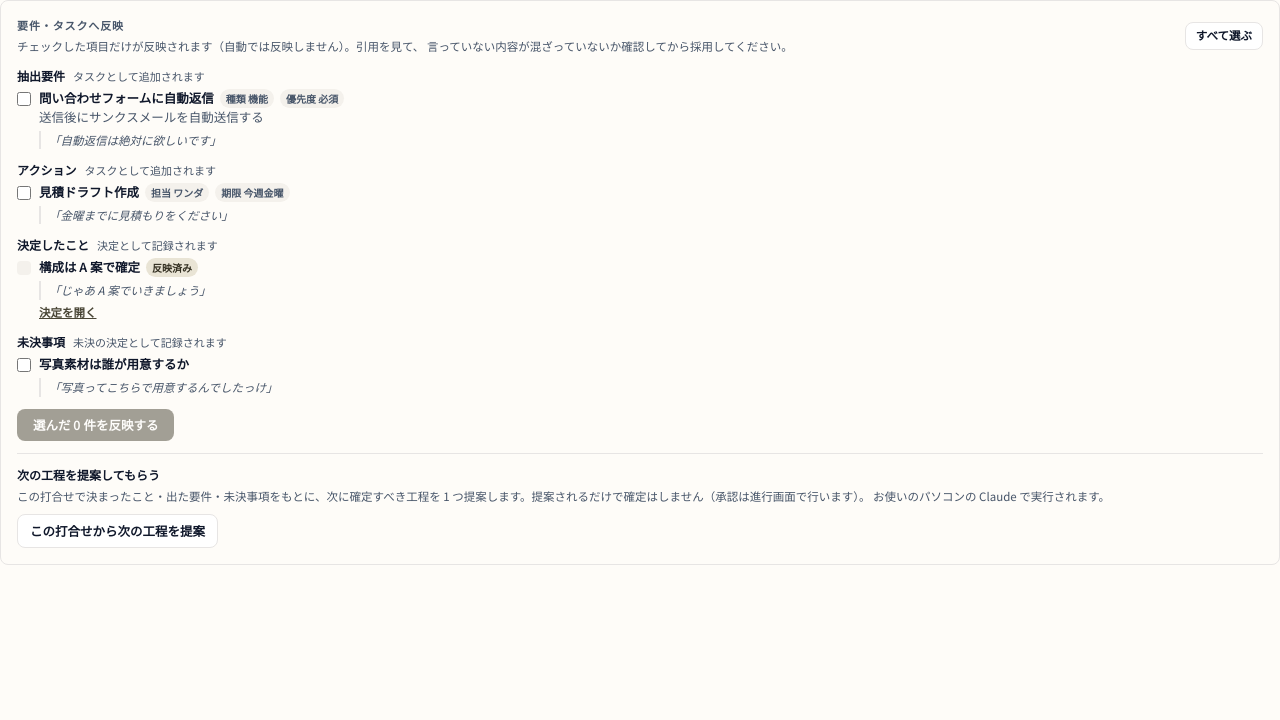
Scenario: GAP-186 議事録の抽出項目の採用 › 反映の結果をそのまま画面に出す（件数を偽らない）
Click the checkbox labelled "問い合わせフォームに自動返信 種類 機能 優先度 必須": coordinates (24, 99) [17, 92, 31, 106]
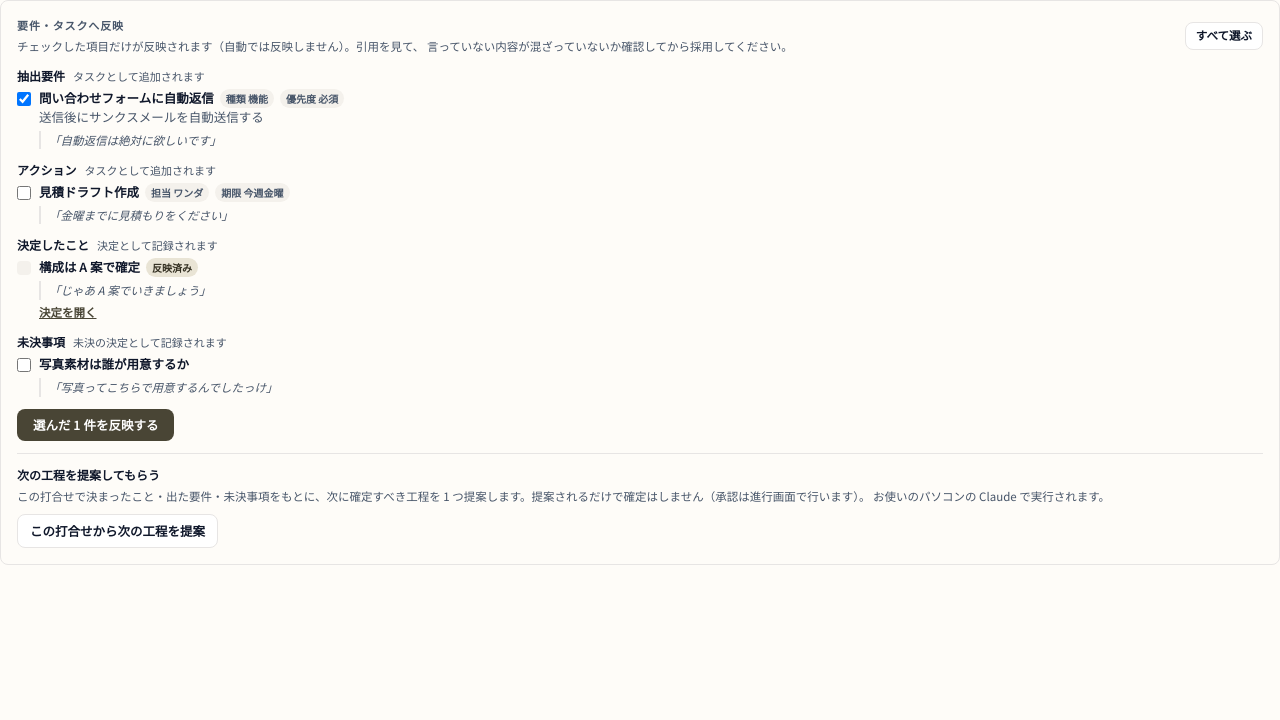
Click the button "選んだ 1 件を反映する": coordinates (96, 425) [17, 409, 174, 441]
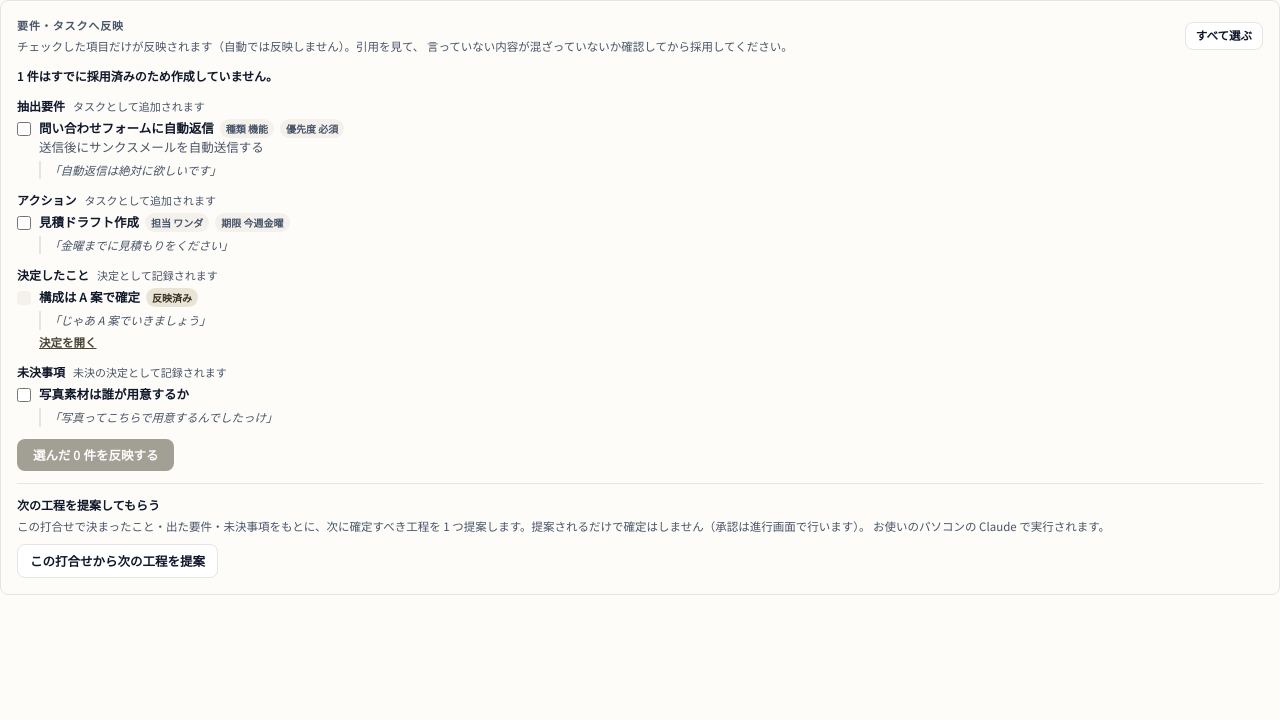
Now the text "1 件はすでに採用済みのため作成していません。" is shown, box [17, 67, 278, 84]
